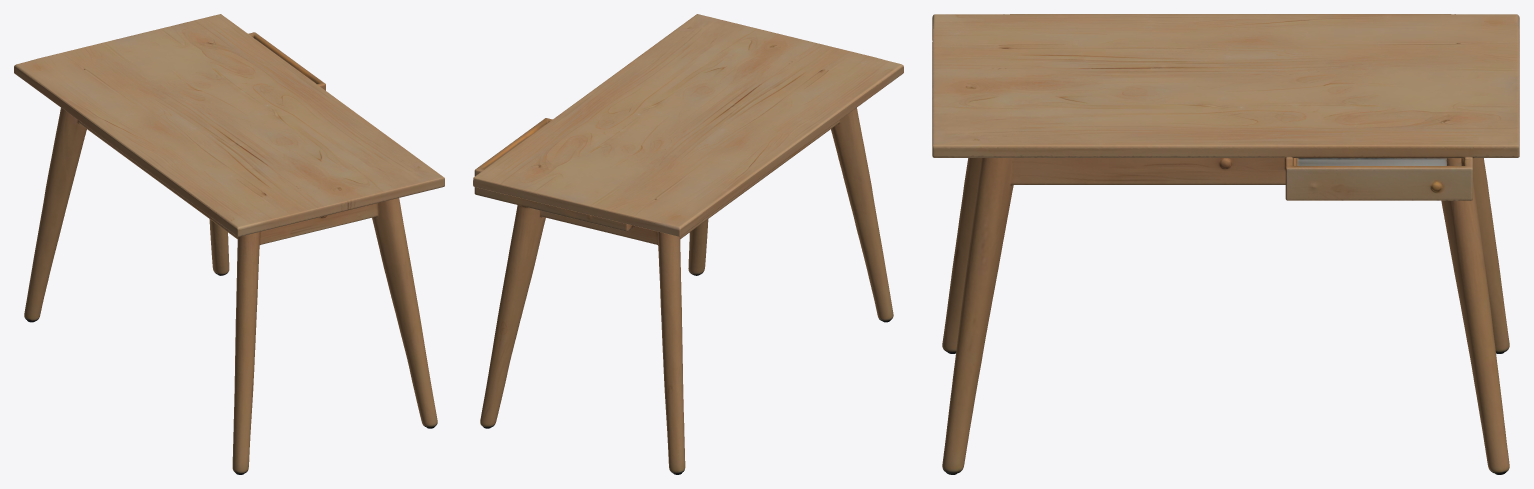
File: realistic_wooden_office_desk_03.glb
3 renders of one model, left to right at view 1: azimuth 30°, elevation 25°; view 2: azimuth 150°, elevation 25°; view 3: azimuth 270°, elevation 25°, orthographic. The views are drawn at different scales.
Parts seen in each view (by area): view 1: tripo_node_c8a5fbfd-11d0-4253-979e-2daa45642500; view 2: tripo_node_c8a5fbfd-11d0-4253-979e-2daa45642500; view 3: tripo_node_c8a5fbfd-11d0-4253-979e-2daa45642500.
Part boxes in pixels (x1,y1,x2,y2): tripo_node_c8a5fbfd-11d0-4253-979e-2daa45642500: (14, 14, 444, 474); tripo_node_c8a5fbfd-11d0-4253-979e-2daa45642500: (473, 14, 903, 474); tripo_node_c8a5fbfd-11d0-4253-979e-2daa45642500: (932, 14, 1519, 474).
Bounding box in the file's own units: 0.5819 × 0.6255 × 1.
1 material, 1 textured.
